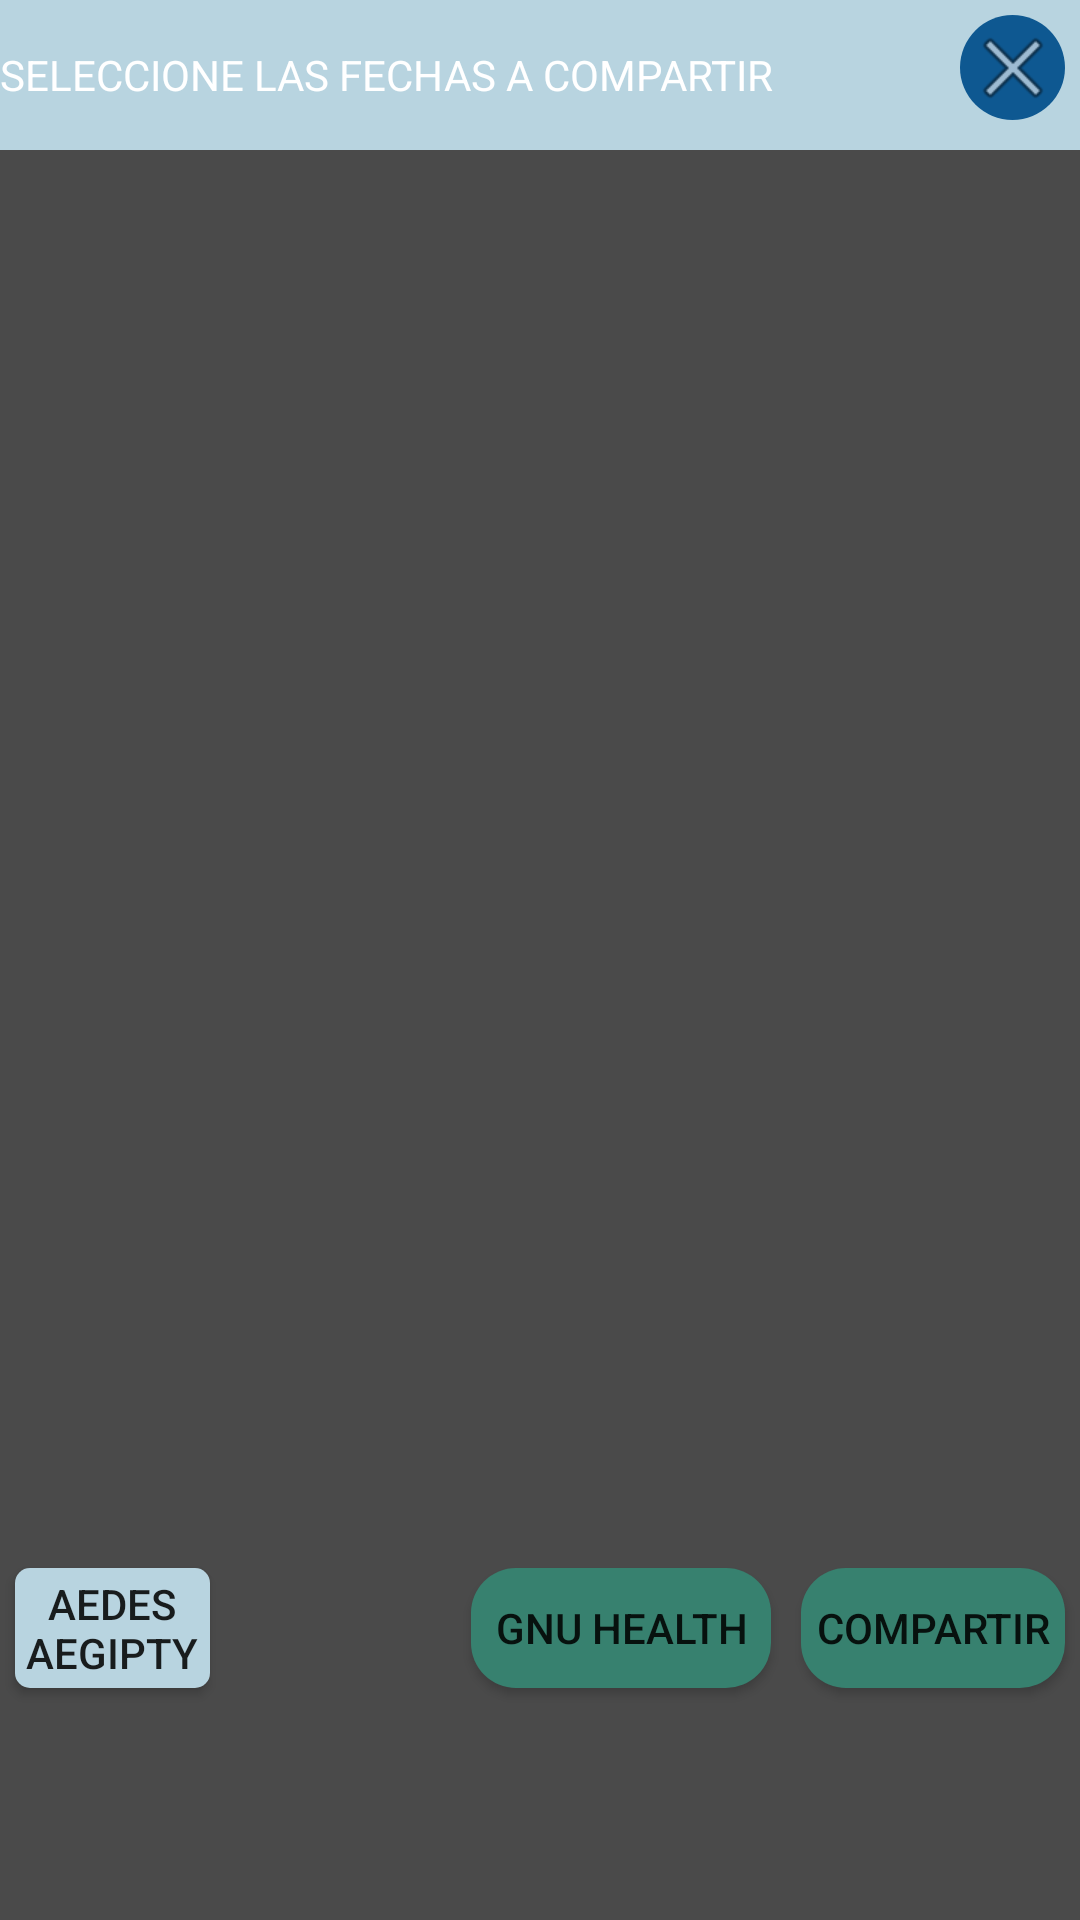

Locate icon controls on the screen. Image size 1080w x 1920h, boxes as box(x1, y1, x2, y2).
close clear cancel: box(960, 15, 1065, 120)
